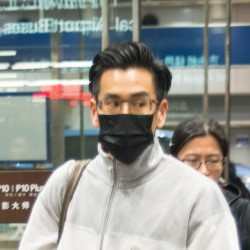mask: (94, 112, 155, 164)
